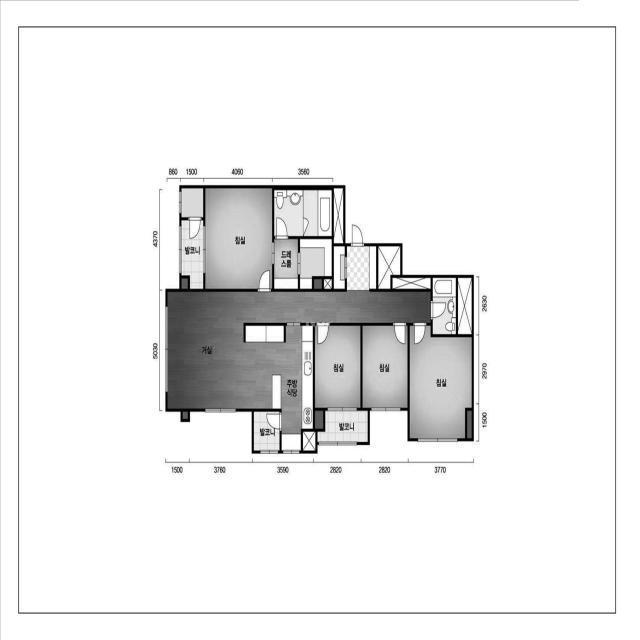background: (0, 0, 640, 640)
space_balconi: (317, 411, 368, 442), (181, 220, 203, 289), (254, 411, 280, 451)
space_bedroom: (410, 326, 472, 438), (205, 188, 272, 289), (362, 326, 408, 408), (315, 326, 360, 408)
space_dressroom: (300, 239, 332, 289), (274, 239, 298, 289)
space_front: (334, 246, 376, 292)
space_kitchen: (246, 325, 313, 451)
space_living_room: (167, 292, 431, 409)
space_other: (378, 246, 400, 289), (458, 278, 472, 334), (181, 188, 203, 217), (334, 188, 343, 244), (392, 278, 431, 289), (303, 431, 316, 451), (315, 411, 323, 429), (467, 411, 472, 438), (324, 279, 332, 289), (314, 279, 322, 289), (182, 278, 188, 289)
space_toilet: (274, 190, 332, 236), (433, 278, 456, 334)
